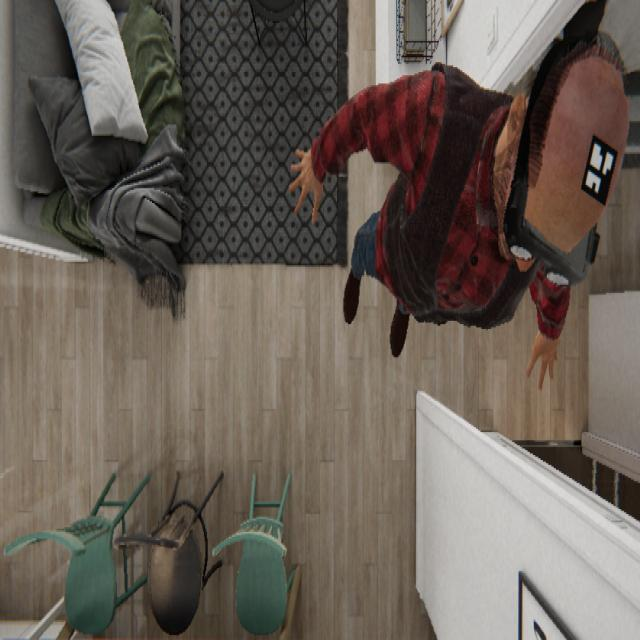AruCO: (580, 129, 618, 208)
Human: (287, 12, 630, 390)
